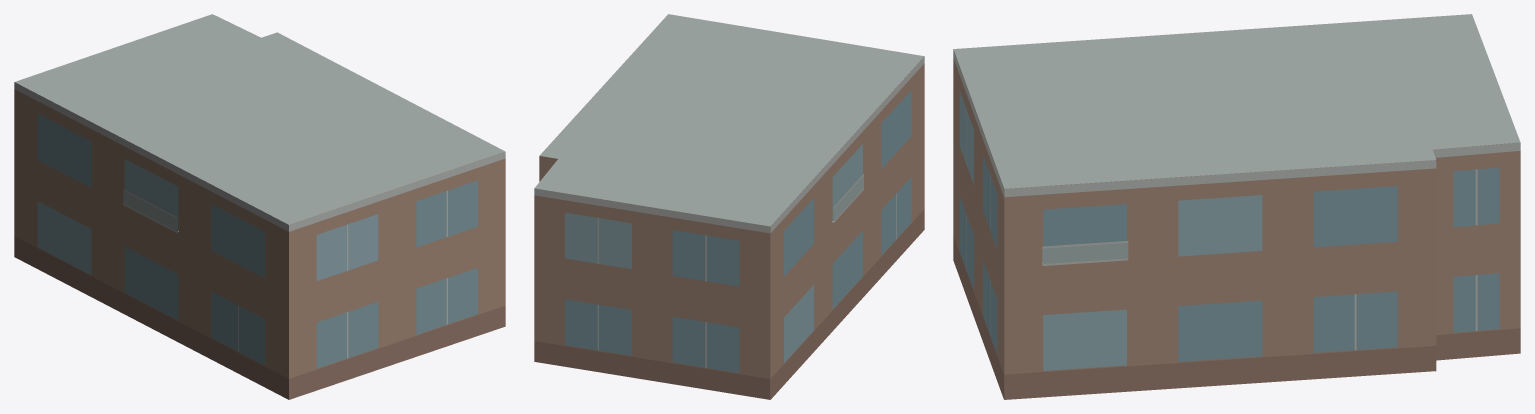
Rendered from survey-upis-32653168.glb.
3 renders of one model, left to right at view 1: azimuth 30°, elevation 25°; view 2: azimuth 150°, elevation 25°; view 3: azimuth 270°, elevation 25°, orthographic. The views are drawn at different scales.
Visible parts, largest first — view 1: survey-upis-32653168.tmp; view 2: survey-upis-32653168.tmp; view 3: survey-upis-32653168.tmp.
Part boxes in pixels (x1,y1,x2,y2): survey-upis-32653168.tmp: (14,14,505,399); survey-upis-32653168.tmp: (534,14,924,399); survey-upis-32653168.tmp: (953,14,1520,399).
Bounding box in the file's own units: 10.85 × 6.1 × 14.87.
